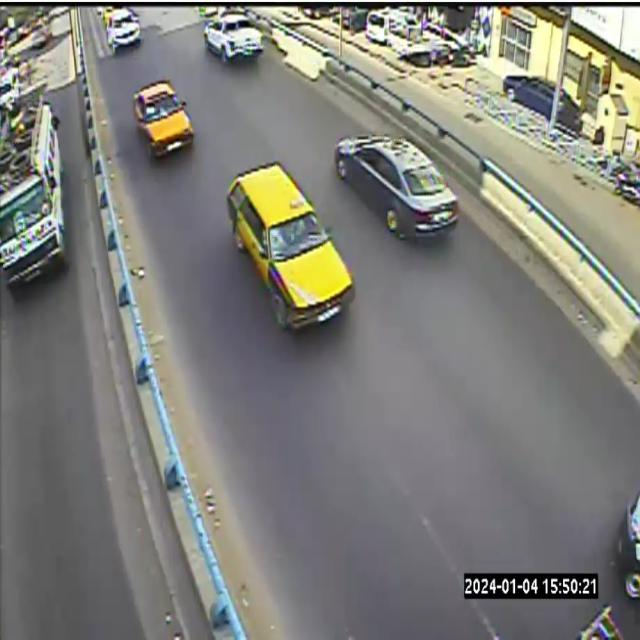car: (225, 162, 353, 328), (335, 136, 456, 236), (134, 81, 194, 155), (205, 12, 263, 61), (107, 9, 141, 53)
